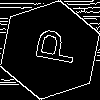P: (25, 25, 79, 67)
